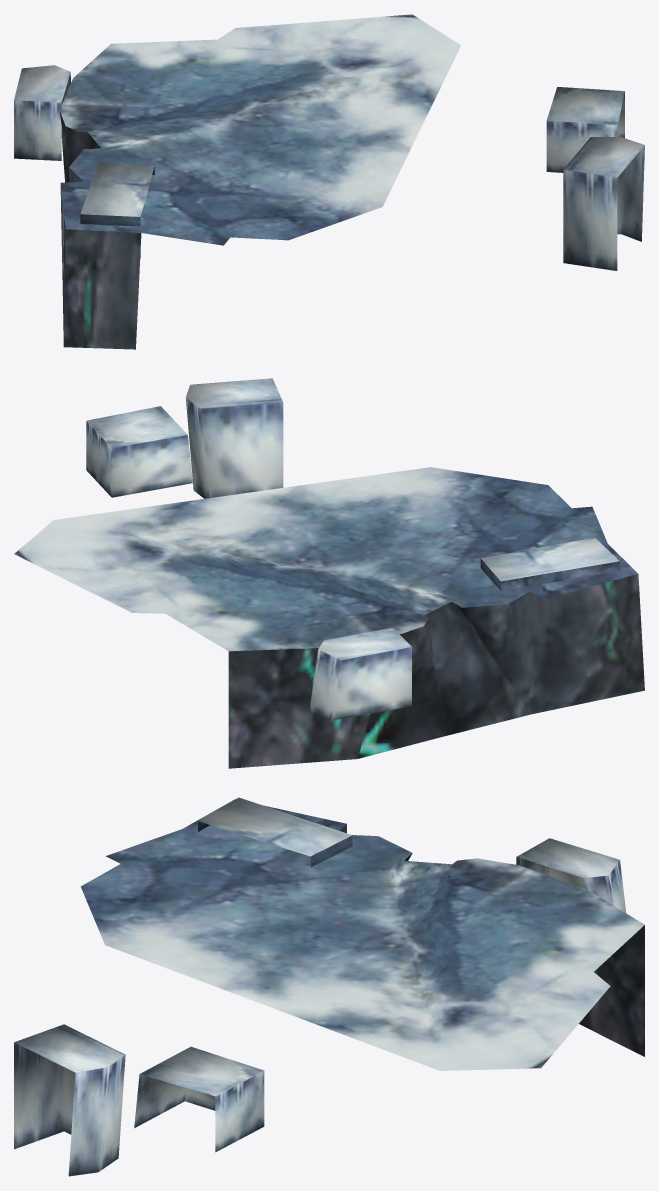
Rendered from S_Build_Snowland208_4.FBX.
3 renders of one model, top to bottom at view 1: azimuth 30°, elevation 25°; view 2: azimuth 150°, elevation 25°; view 3: azimuth 270°, elevation 25°, orthographic. The views are drawn at different scales.
Visible parts, largest first — view 1: S_Build_Snowland208_4; view 2: S_Build_Snowland208_4; view 3: S_Build_Snowland208_4.
Boxes of the visible parts, <box> form: S_Build_Snowland208_4: <box>14,14,644,349</box>; S_Build_Snowland208_4: <box>14,378,644,768</box>; S_Build_Snowland208_4: <box>14,797,644,1176</box>.
Size of the model in its own units: 620 by 532 by 135.
